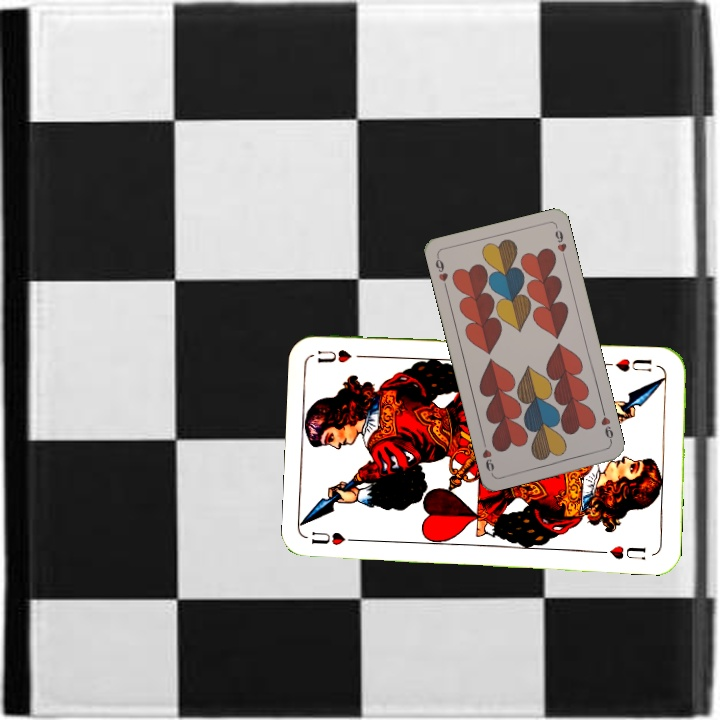H9: (431, 252, 450, 292), (597, 406, 616, 446)
HU: (307, 528, 365, 548), (611, 354, 654, 374)
